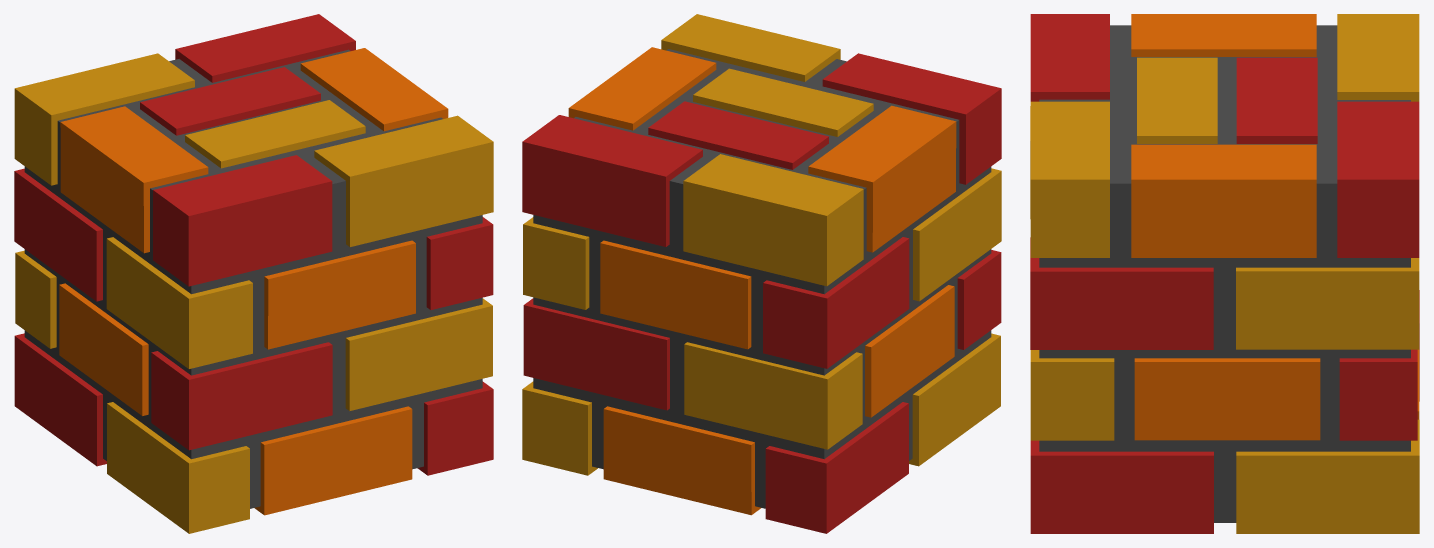
The picture shows the model from 3 angles, left to right: view 1: azimuth 30°, elevation 25°; view 2: azimuth 150°, elevation 25°; view 3: azimuth 270°, elevation 25°; orthographic projection. The views are drawn at different scales.
Parts seen in each view (by area): view 1: Cube.120, Cube.090, Cube.091, Cube.109, Cube.089, Cube.112, Cube.097, Cube.100, Cube.108, Cube.115, Cube.092, Cube.104 (+9 smaller); view 2: Cube.120, Cube.092, Cube.093, Cube.107, Cube.089, Cube.113, Cube.096, Cube.101, Cube.114, Cube.106, Cube.090, Cube.104 (+9 smaller); view 3: Cube.120, Cube.088, Cube.105, Cube.116, Cube.098, Cube.117, Cube.099, Cube.093, Cube.091, Cube.089, Cube.092, Cube.108 (+4 smaller).
Part boxes in pixels (x1,y1,x2,y2): Cube.120: (24,49,482,508); Cube.090: (153,155,332,286); Cube.091: (314,115,493,246); Cube.109: (151,342,332,450); Cube.089: (60,106,208,253); Cube.112: (254,406,412,515); Cube.097: (264,240,415,349); Cube.100: (106,237,252,368); Cube.108: (345,298,492,410); Cube.115: (107,402,249,533); Cube.092: (14,53,194,185); Cube.104: (59,283,148,415); Cube.120: (533,49,991,508); Cube.092: (683,154,863,286); Cube.093: (522,115,702,246); Cube.107: (684,342,862,449); Cube.089: (808,105,956,252); Cube.113: (603,406,760,515); Cube.096: (600,240,751,349); Cube.101: (763,237,909,368); Cube.114: (765,402,908,533); Cube.106: (523,298,669,410); Cube.090: (822,53,1001,184); Cube.104: (865,285,954,417); Cube.120: (1039,25,1410,522); Cube.088: (1131,144,1316,257); Cube.105: (1134,358,1320,440); Cube.116: (1236,419,1419,533); Cube.098: (1030,237,1213,349); Cube.117: (1030,440,1213,533); Cube.099: (1236,258,1419,349); Cube.093: (1337,101,1419,257); Cube.091: (1030,101,1109,257); Cube.089: (1131,14,1316,56); Cube.092: (1337,14,1419,101); Cube.108: (1030,350,1114,440).
Bounding box in the file's own units: 193 × 192 × 192.
